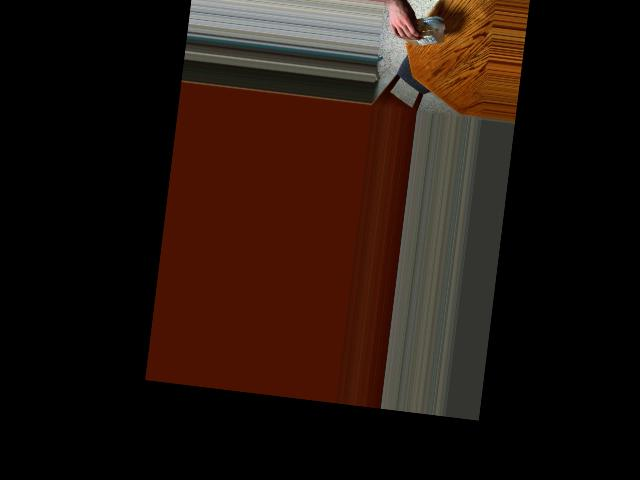cheese: (390, 7, 438, 49)
